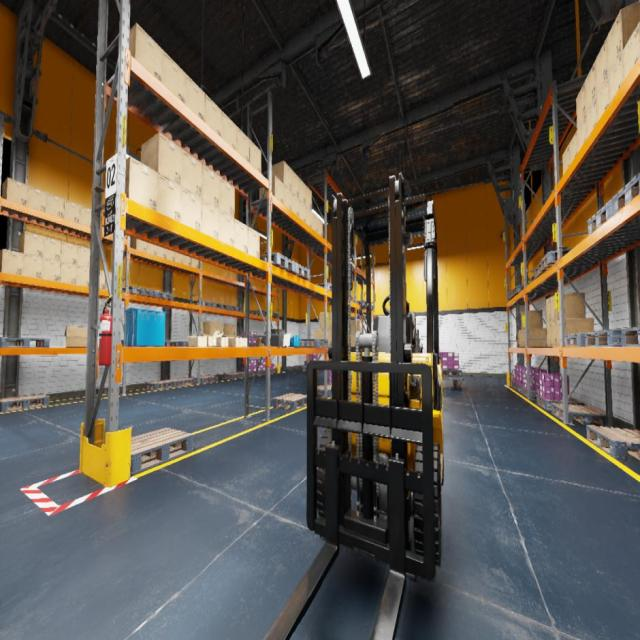box: (118, 22, 163, 82), (606, 1, 640, 75), (141, 132, 182, 187), (125, 157, 158, 211), (163, 50, 186, 103), (157, 173, 181, 222), (557, 318, 594, 347), (622, 22, 640, 81), (550, 292, 586, 321), (182, 150, 202, 199), (185, 74, 205, 121), (181, 187, 202, 231), (201, 164, 220, 208), (608, 52, 624, 103), (595, 38, 608, 96), (2, 177, 28, 206), (205, 94, 222, 137), (202, 200, 219, 240), (219, 177, 235, 219), (19, 231, 44, 257), (260, 176, 284, 203), (596, 76, 610, 121), (0, 248, 23, 274), (585, 61, 596, 113), (272, 160, 291, 190), (219, 210, 234, 247), (222, 111, 236, 150), (27, 186, 47, 212), (22, 254, 43, 278), (576, 82, 586, 129), (43, 236, 61, 262), (586, 96, 597, 138), (42, 258, 61, 282), (236, 127, 249, 162), (46, 193, 64, 218), (234, 218, 247, 252), (524, 328, 547, 347), (65, 327, 88, 346), (520, 310, 542, 329), (61, 241, 78, 265), (60, 262, 77, 285), (577, 114, 587, 152), (64, 200, 80, 223), (250, 140, 261, 173), (248, 226, 259, 258), (314, 329, 332, 346), (77, 245, 90, 268), (130, 236, 147, 253), (76, 265, 89, 286), (570, 131, 578, 164), (562, 144, 570, 175), (80, 205, 91, 227), (213, 331, 228, 346), (291, 170, 299, 198), (319, 312, 332, 329), (291, 192, 299, 217), (299, 178, 306, 204), (284, 184, 291, 210), (189, 336, 206, 346), (546, 297, 552, 323), (223, 323, 235, 336), (197, 334, 210, 346), (351, 320, 362, 334), (299, 200, 306, 222), (551, 321, 557, 346), (204, 322, 216, 334), (98, 270, 105, 290), (229, 337, 242, 347), (147, 242, 157, 255), (105, 272, 112, 290), (547, 322, 552, 347), (306, 186, 311, 210), (157, 246, 166, 259), (317, 217, 323, 236), (312, 211, 317, 232), (306, 206, 311, 227), (206, 336, 216, 346), (166, 249, 174, 261), (210, 334, 217, 347), (183, 255, 191, 266), (175, 252, 183, 263), (348, 334, 355, 346), (223, 335, 230, 347), (257, 337, 265, 347), (191, 258, 199, 268), (216, 322, 222, 334), (229, 336, 235, 346), (235, 336, 240, 346), (242, 338, 248, 346), (516, 332, 519, 346), (519, 330, 521, 347), (522, 329, 524, 346), (102, 228, 104, 232)
forklift: (317, 173, 443, 566)
pallets: (131, 428, 193, 475), (586, 425, 640, 459), (550, 403, 606, 426), (613, 172, 640, 214), (587, 200, 613, 236), (0, 394, 50, 412), (541, 248, 573, 271), (536, 395, 584, 410), (260, 253, 295, 272), (584, 329, 622, 346), (273, 393, 306, 410), (0, 337, 50, 347), (283, 263, 309, 280), (621, 328, 640, 347), (122, 286, 153, 297), (145, 380, 177, 390), (564, 333, 585, 346), (294, 338, 328, 346), (169, 378, 196, 388), (512, 284, 529, 296), (153, 291, 173, 301), (534, 263, 546, 279), (192, 300, 216, 308), (522, 387, 537, 399), (317, 385, 332, 397), (193, 376, 218, 383), (224, 372, 244, 380), (442, 369, 461, 377), (316, 282, 331, 292), (179, 341, 199, 347), (240, 371, 259, 377), (160, 341, 178, 347), (212, 304, 229, 310), (251, 310, 266, 316), (354, 300, 366, 307), (266, 312, 278, 318), (230, 306, 242, 312), (516, 384, 523, 394), (266, 369, 277, 374), (508, 291, 513, 301), (512, 381, 517, 390), (348, 294, 353, 302), (258, 370, 266, 375), (240, 344, 258, 346), (530, 275, 534, 283), (371, 304, 374, 310), (121, 341, 123, 347), (304, 361, 307, 365)
